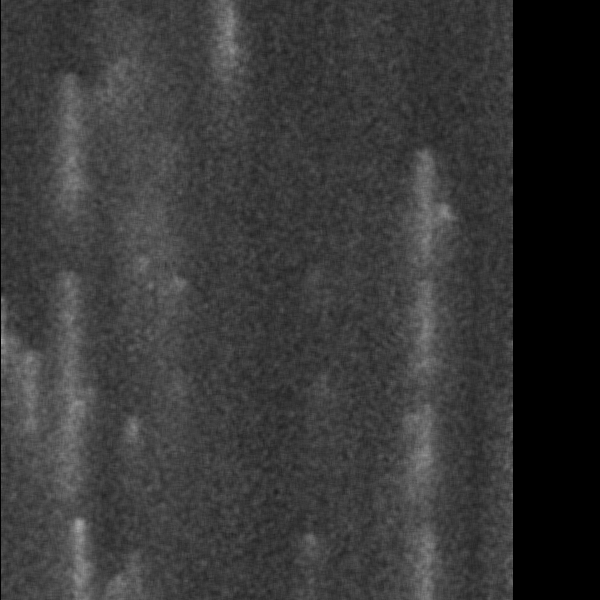spark: (410, 180, 444, 394), (55, 48, 82, 268), (212, 1, 253, 123), (367, 193, 465, 237), (102, 51, 133, 130), (409, 506, 435, 599), (118, 412, 150, 474), (107, 245, 160, 276), (16, 339, 37, 408), (98, 566, 137, 595), (166, 271, 194, 307), (297, 530, 318, 554), (118, 206, 147, 220)
